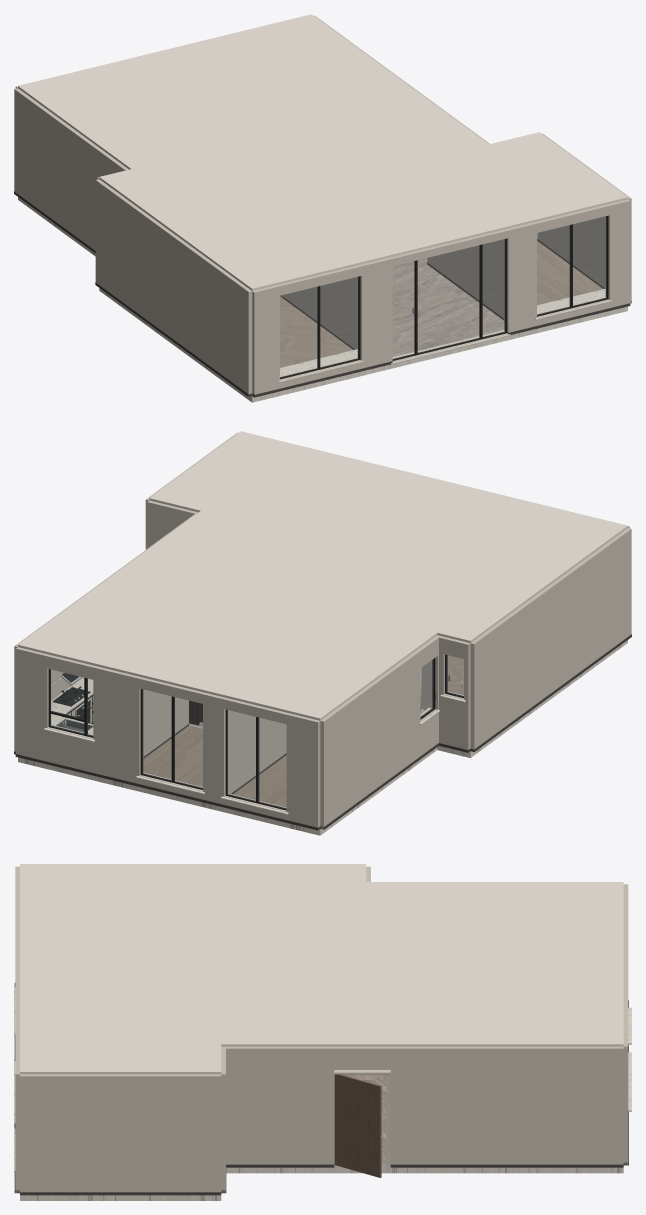
Rendered from apartment-v03.glb.
3 renders of one model, top to bottom at view 1: azimuth 30°, elevation 25°; view 2: azimuth 150°, elevation 25°; view 3: azimuth 270°, elevation 25°, orthographic. The views are drawn at different scales.
Visible parts, largest first — view 1: Ceiling_main, wall_west_south_0_0_upper, Continuous_public_stone, wall_west_south_0_0_lower, wall_west_north_0_0_upper, wall_west_north_0_0_lower, Living_south_glass_upper.001, Apartment_floor_slab, floor_master, Living_south_glass_lower.001, wall_living_se_2_0_lower, wall_master_living_4_0_lower (+33 smaller); view 2: Ceiling_main, wall_west_south_0_0_upper, wall_west_south_0_0_lower, wall_west_north_0_0_upper, wall_west_north_0_0_lower, wall_north_4_0_upper, Apartment_floor_slab, floor_xroom, wall_north_0_0_upper, wall_northwest_x_0_0_lower, wall_north_6_0_upper, wall_north_4_0_lower (+27 smaller); view 3: Ceiling_main, wall_east_north_0_0_upper, wall_east_south_0_0_upper, wall_east_north_0_0_lower, wall_east_south_0_0_lower, wall_east_elevator_0_0_upper, wall_east_elevator_0_0_lower, Apartment_floor_slab, door_entry_lower, door_entry_upper, wall_east_north_1_1_upper, skirting_east_north_0 (+4 smaller).
Part boxes in pixels (x1,y1,x2,y2): Ceiling_main: [18, 14, 627, 290]; wall_west_south_0_0_upper: [95, 179, 252, 353]; Continuous_public_stone: [282, 258, 568, 357]; wall_west_south_0_0_lower: [95, 242, 252, 393]; wall_west_north_0_0_upper: [14, 88, 111, 209]; wall_west_north_0_0_lower: [14, 151, 95, 250]; Living_south_glass_upper.001: [418, 246, 479, 311]; Apartment_floor_slab: [18, 197, 627, 402]; floor_master: [280, 296, 352, 367]; Living_south_glass_lower.001: [418, 298, 479, 352]; wall_living_se_2_0_lower: [427, 249, 504, 318]; wall_master_living_4_0_lower: [282, 285, 357, 349]; Ceiling_main: [18, 431, 627, 720]; wall_west_south_0_0_upper: [470, 528, 631, 707]; wall_west_south_0_0_lower: [470, 593, 631, 749]; wall_west_north_0_0_upper: [320, 650, 420, 785]; wall_west_north_0_0_lower: [320, 715, 420, 829]; wall_north_4_0_upper: [93, 666, 143, 742]; Apartment_floor_slab: [18, 640, 627, 835]; floor_xroom: [143, 726, 202, 786]; wall_north_0_0_upper: [286, 713, 320, 785]; wall_northwest_x_0_0_lower: [228, 721, 286, 793]; wall_north_6_0_upper: [16, 647, 51, 719]; wall_north_4_0_lower: [93, 731, 143, 783]; Ceiling_main: [20, 864, 623, 1074]; wall_east_north_0_0_upper: [390, 1046, 623, 1118]; wall_east_south_0_0_upper: [20, 1074, 221, 1146]; wall_east_north_0_0_lower: [390, 1118, 623, 1164]; wall_east_south_0_0_lower: [20, 1146, 221, 1192]; wall_east_elevator_0_0_upper: [221, 1046, 328, 1118]; wall_east_elevator_0_0_lower: [226, 1118, 328, 1164]; Apartment_floor_slab: [20, 1165, 623, 1200]; door_entry_lower: [334, 1117, 381, 1177]; door_entry_upper: [334, 1074, 381, 1130]; wall_east_north_1_1_upper: [334, 1046, 390, 1069]; skirting_east_north_0: [390, 1164, 623, 1167].
Bounding box in the file's own units: 10.72 × 3.04 × 13.2.
Materials: 25 (11 with a texture image).
